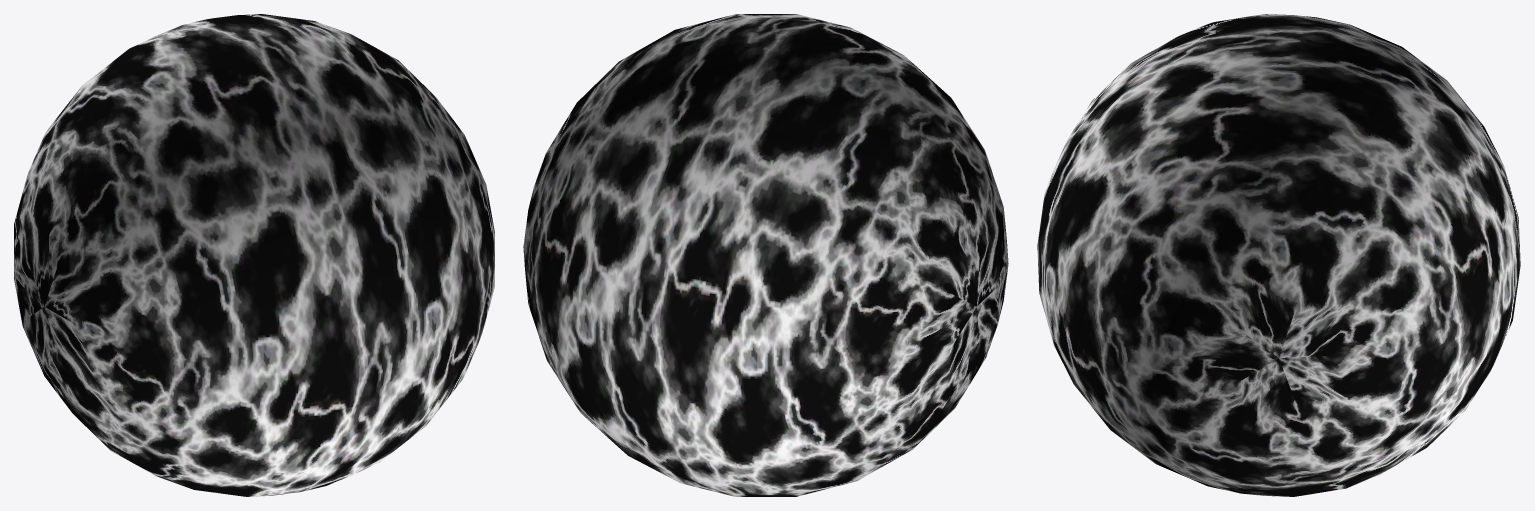
The model's file is inmate_energybubble.glb.
3 views of the same model, side by side, from view 1: azimuth 30°, elevation 25°; view 2: azimuth 150°, elevation 25°; view 3: azimuth 270°, elevation 25° (orthographic).
Parts seen in each view (by area): view 1: inmate_energybubble_0; view 2: inmate_energybubble_0; view 3: inmate_energybubble_0.
Boxes of the visible parts, x1,y1,x2,y2 form: inmate_energybubble_0: (14,14,494,496); inmate_energybubble_0: (523,14,1008,496); inmate_energybubble_0: (1037,14,1520,496).
Bounding box in the file's own units: 160 × 159 × 159.
1 material, 1 textured.
